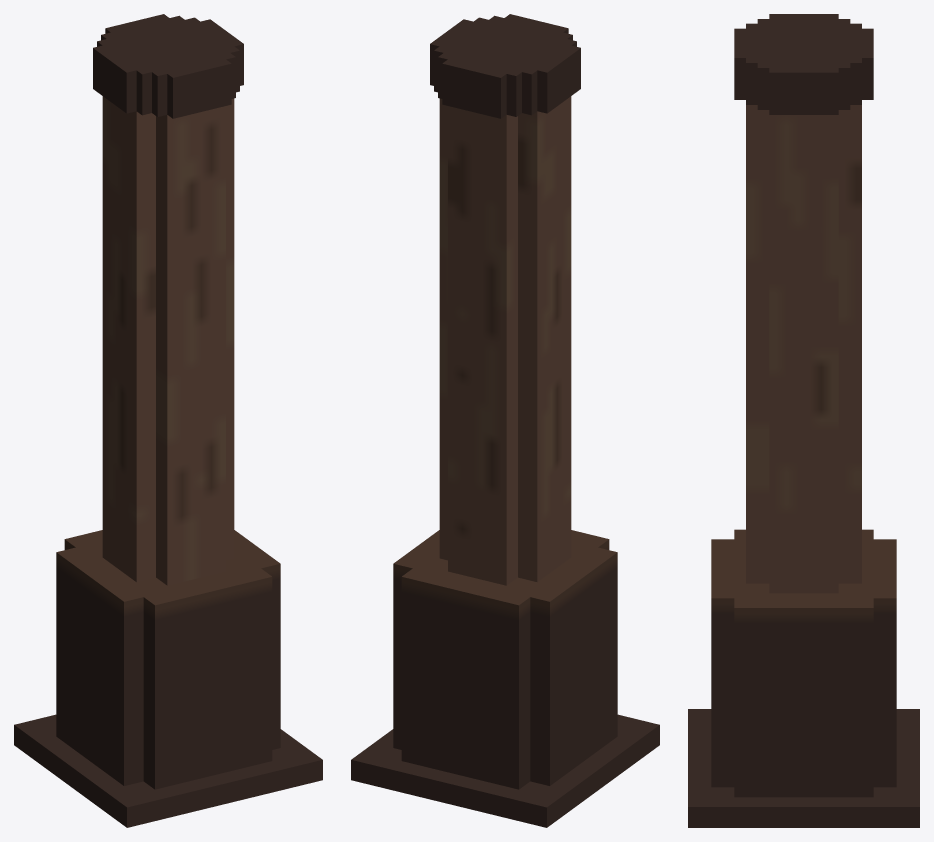
Rendered from Outer_PillarBase_00.fbx.
The picture shows the model from 3 angles, left to right: view 1: azimuth 30°, elevation 25°; view 2: azimuth 150°, elevation 25°; view 3: azimuth 270°, elevation 25°; orthographic projection. The views are drawn at different scales.
Visible parts, largest first — view 1: Outer_PillarBase_00; view 2: Outer_PillarBase_00; view 3: Outer_PillarBase_00.
Part boxes in pixels (box(x1,y1,x2,y2)): Outer_PillarBase_00: box(14, 14, 322, 827); Outer_PillarBase_00: box(351, 14, 659, 827); Outer_PillarBase_00: box(688, 14, 919, 827).
Size of the model in its own units: 100 by 350 by 100.
